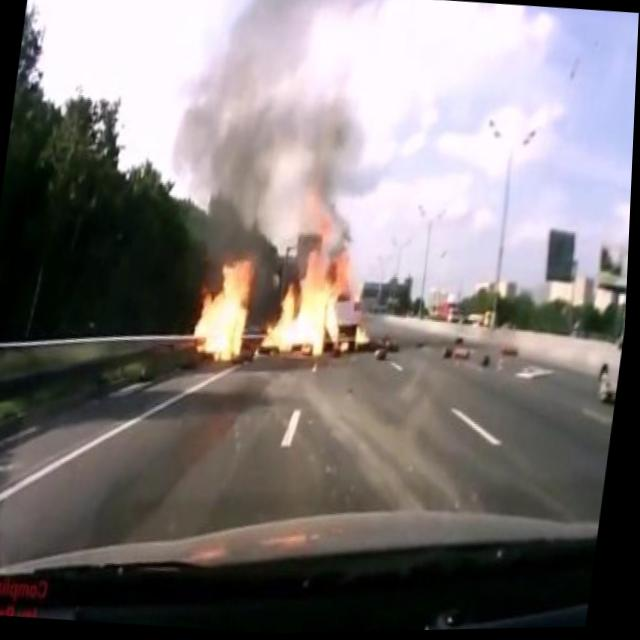fire: (188, 219, 360, 380), (354, 319, 374, 350)
